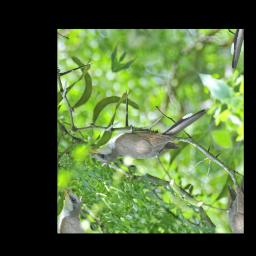Cuckoo: (86, 63, 208, 199)
